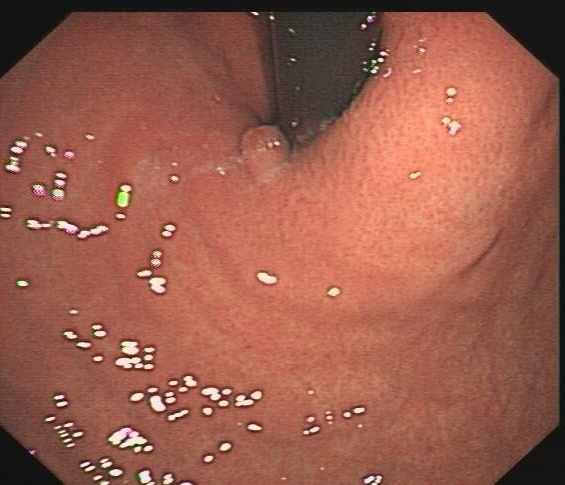Polyp: (232, 124, 291, 182)
